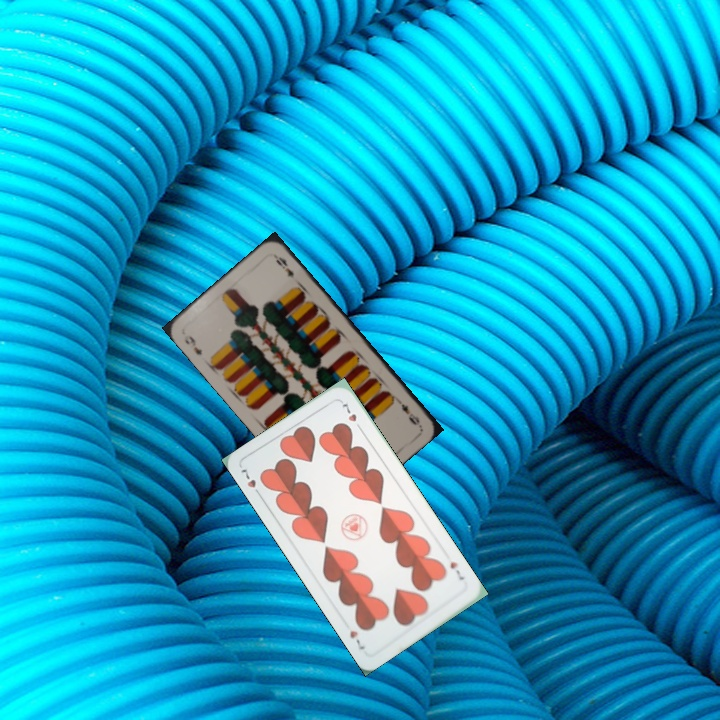E9: (392, 395, 422, 428), (180, 331, 205, 358)
H7: (237, 465, 264, 500), (446, 558, 467, 583)
